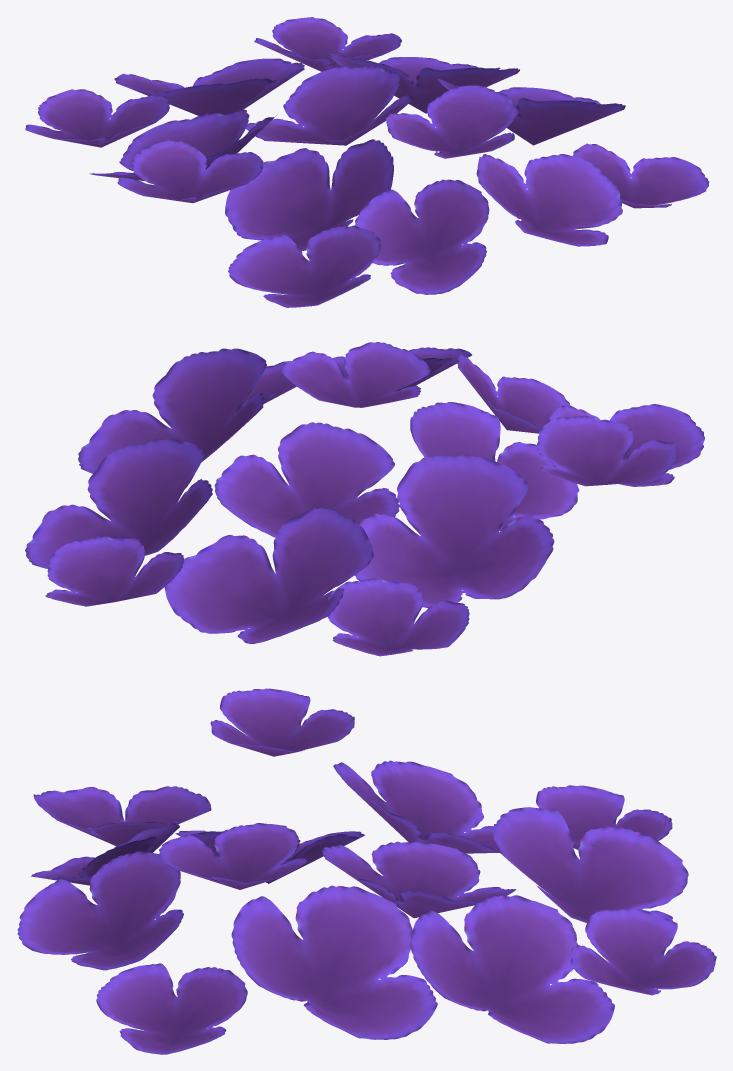
Rendered from plant_7_big.glb.
3 renders of one model, top to bottom at view 1: azimuth 30°, elevation 25°; view 2: azimuth 150°, elevation 25°; view 3: azimuth 270°, elevation 25°, orthographic. The views are drawn at different scales.
Parts seen in each view (by area): view 1: Plant_7_Big; view 2: Plant_7_Big; view 3: Plant_7_Big.
Boxes of the visible parts, x1,y1,x2,y2 form: Plant_7_Big: [25, 17, 709, 307]; Plant_7_Big: [25, 342, 704, 656]; Plant_7_Big: [17, 688, 716, 1054].
Size of the model in its own units: 1.31 by 0.2534 by 1.36.
1 material, 1 textured.
